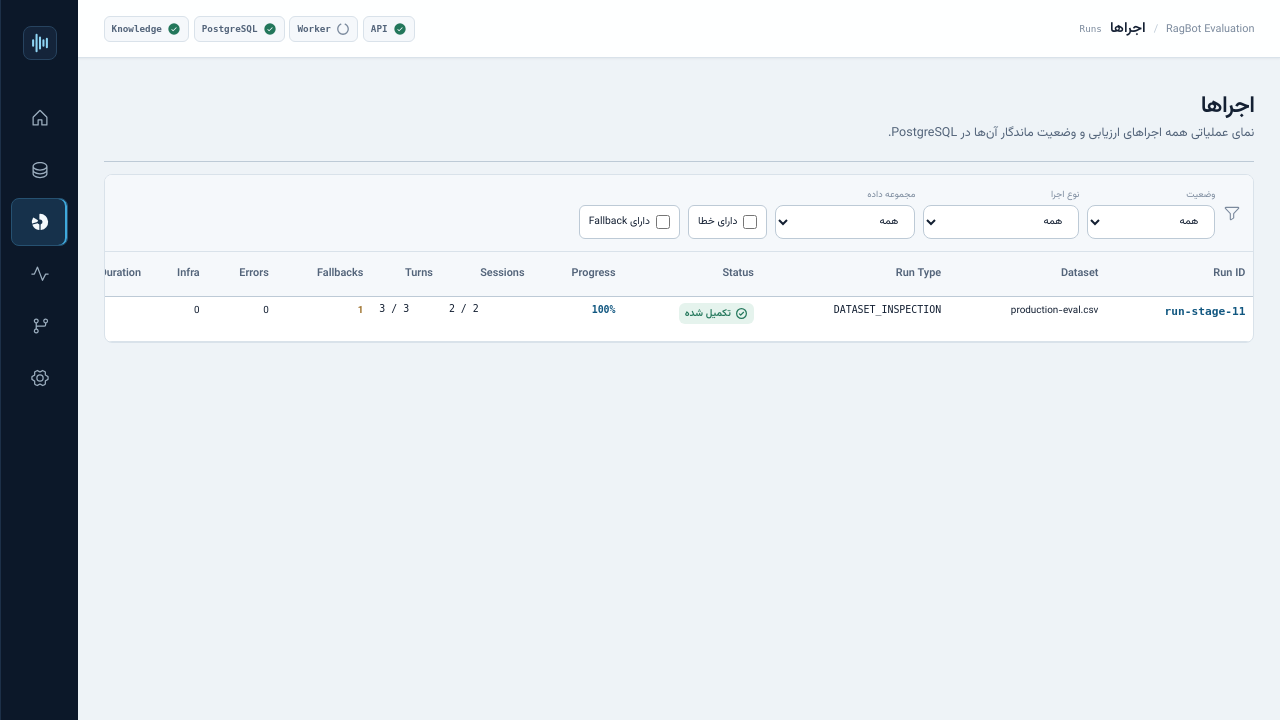
renders real runs and opens the unified Run Inspector
The width and height of the screenshot is (1280, 720).
Expected: the heading "اجراها" is shown, [1201,88,1254,124]
Click the button "run-stage-11": {"x": 1205, "y": 312} [1165,303,1245,320]
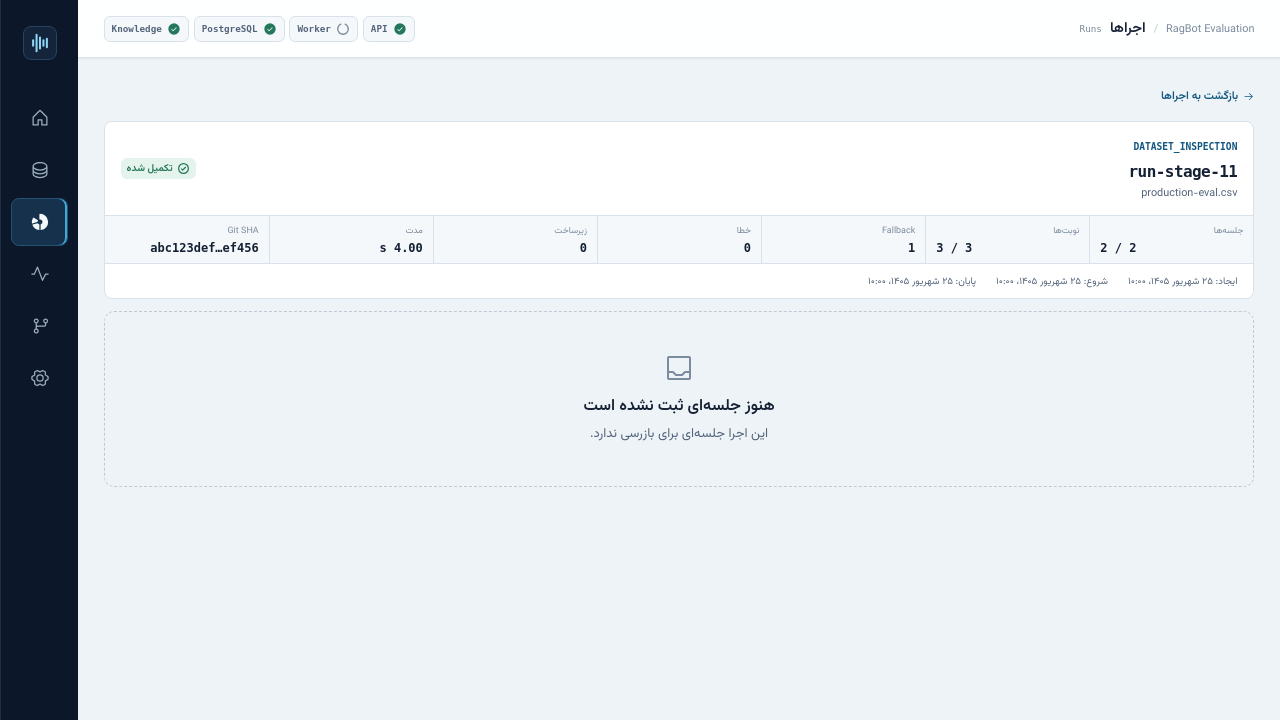
Expected: the button "بازگشت به اجراها" is shown, [1161,84,1254,109]
